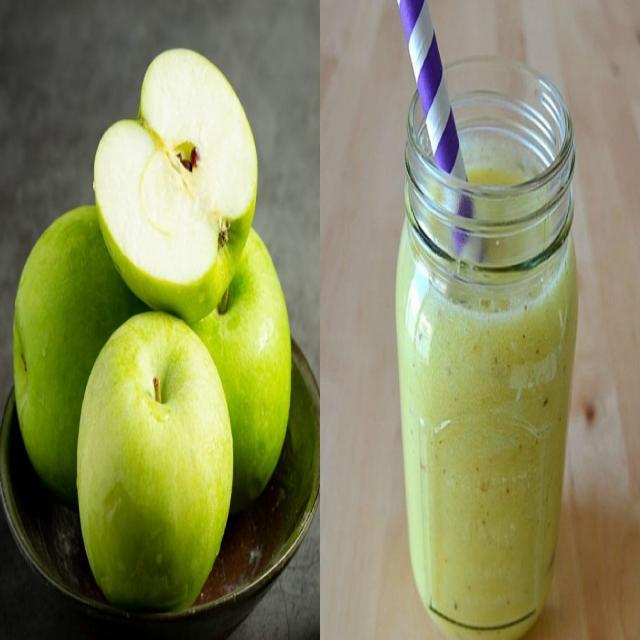Green Apple: (12, 204, 293, 514)
Red Apple: (75, 311, 235, 613), (92, 47, 260, 324), (12, 204, 146, 504), (189, 228, 293, 514)
